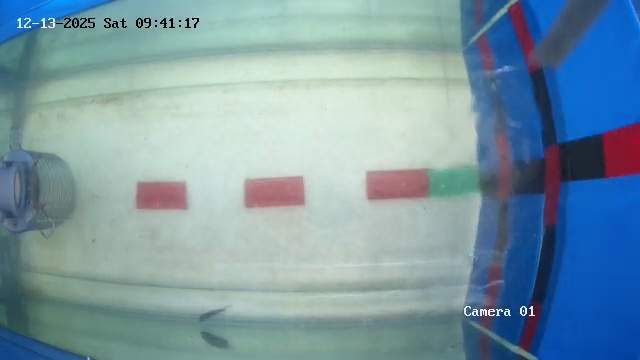fish: (190, 307, 234, 326)
